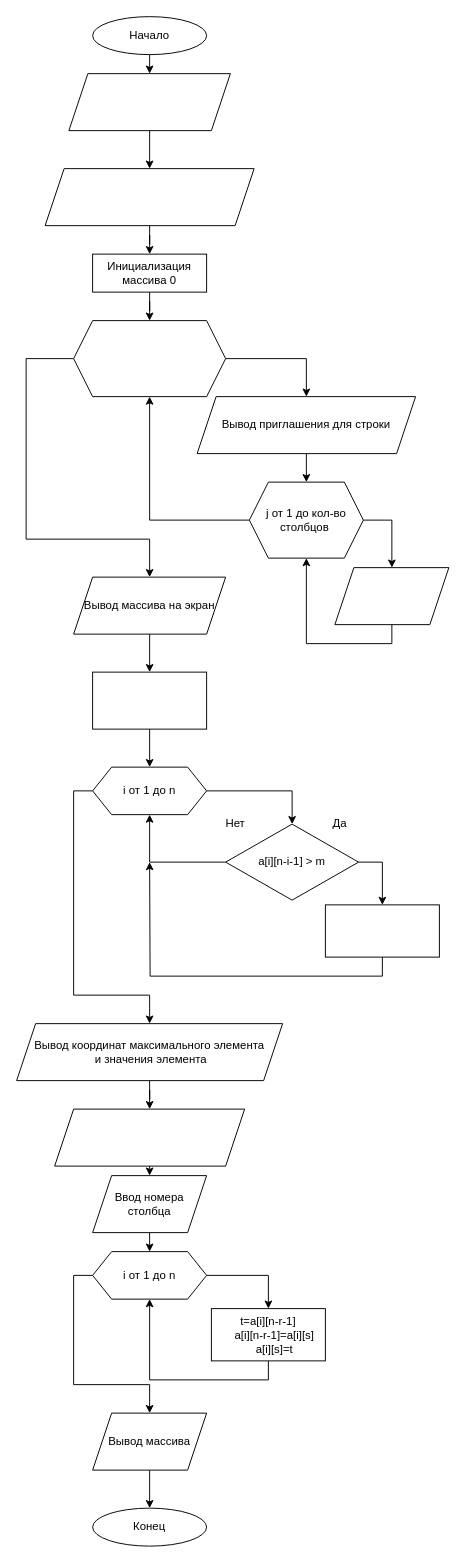
Some shapes in this 466 by 1563 pixel diagram are drawn without their labels. The centre of each missing label's shape, as x and y in pixels:
i от 1 до кол-во строк: [149,358]
m = a[i][n-i-1] r = i: [381,930]
r=0 m=a[0][n-1]: [149,700]
Ввод размерности массива n: [149,197]
Ввод элемента массива: [391,596]
Вывод приглашения: [149,102]
Вывод приглашения для номера столбца: [149,1137]
